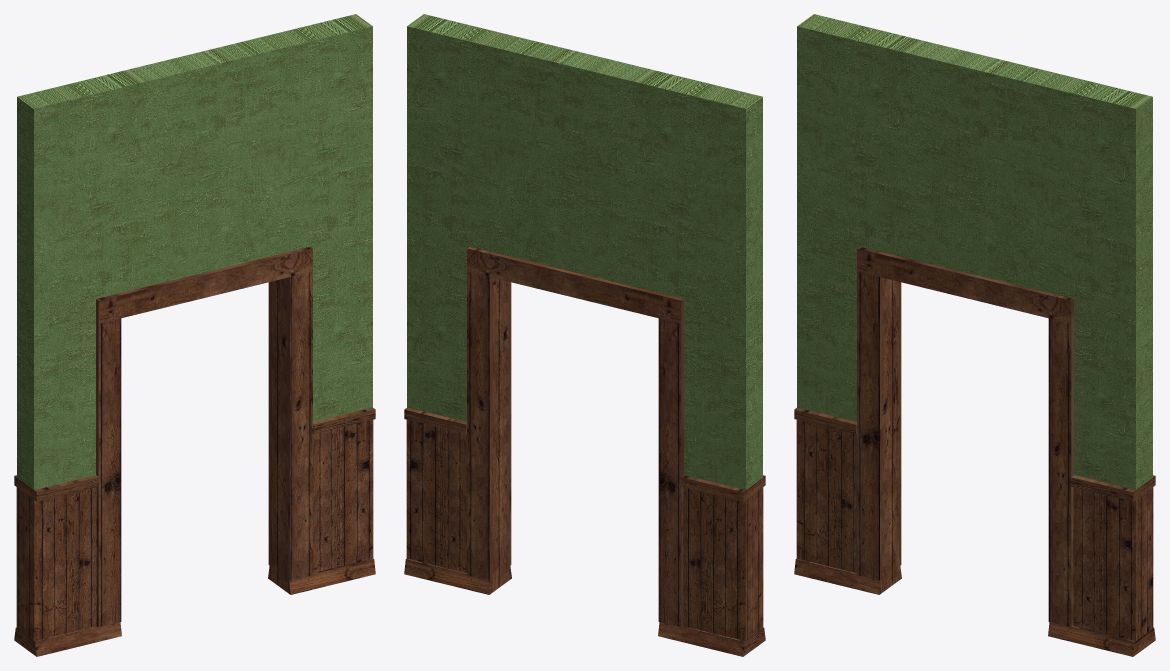
File: OfficeDoorway02.fbx
The picture shows the model from 3 angles, left to right: view 1: azimuth 30°, elevation 25°; view 2: azimuth 150°, elevation 25°; view 3: azimuth 330°, elevation 25°; orthographic projection.
Parts seen in each view (by area): view 1: Cube.004; view 2: Cube.004; view 3: Cube.004.
Boxes of the visible parts, x1,y1,x2,y2 form: Cube.004: (14,14,375,656); Cube.004: (404,14,765,656); Cube.004: (794,14,1155,656).
Size of the model in its own units: 650 by 1000 by 75.3.
